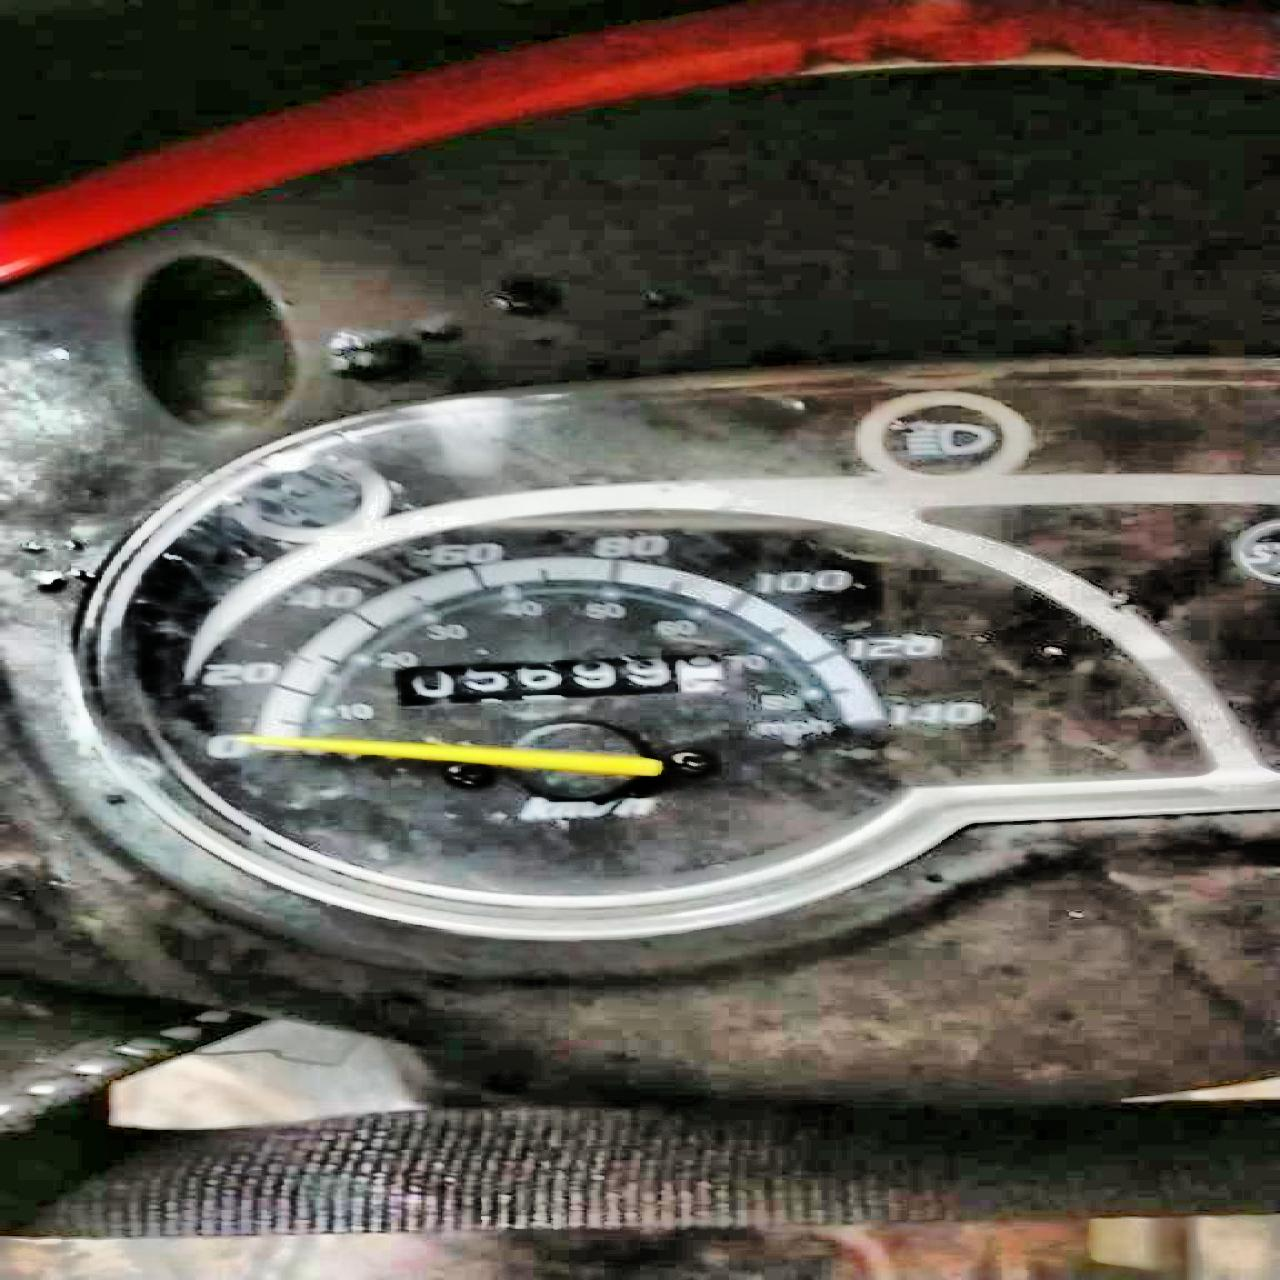0: (404, 670, 454, 699), (395, 651, 417, 666)
5: (462, 660, 506, 694)
6: (513, 661, 560, 692)
7: (682, 673, 729, 700), (727, 654, 742, 668)
9: (568, 654, 615, 692), (622, 654, 669, 690)
odometer: (384, 652, 744, 709)
